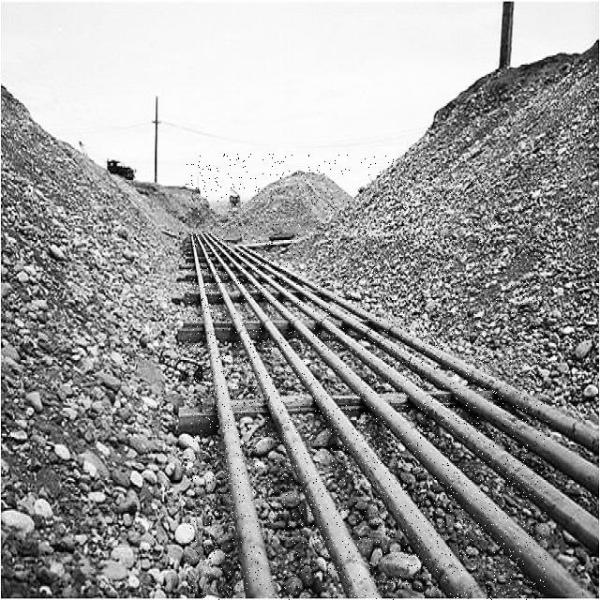no leak: (198, 222, 322, 372)
